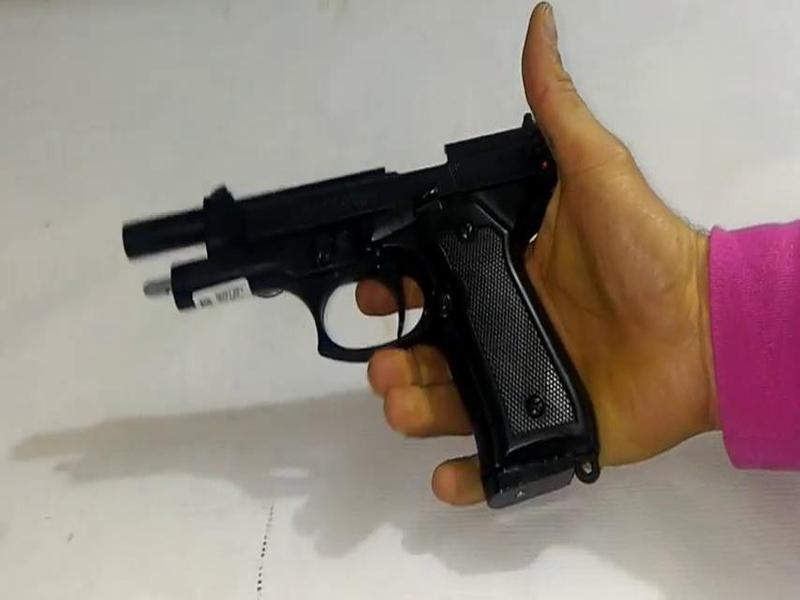Pistola: (109, 87, 644, 501)
